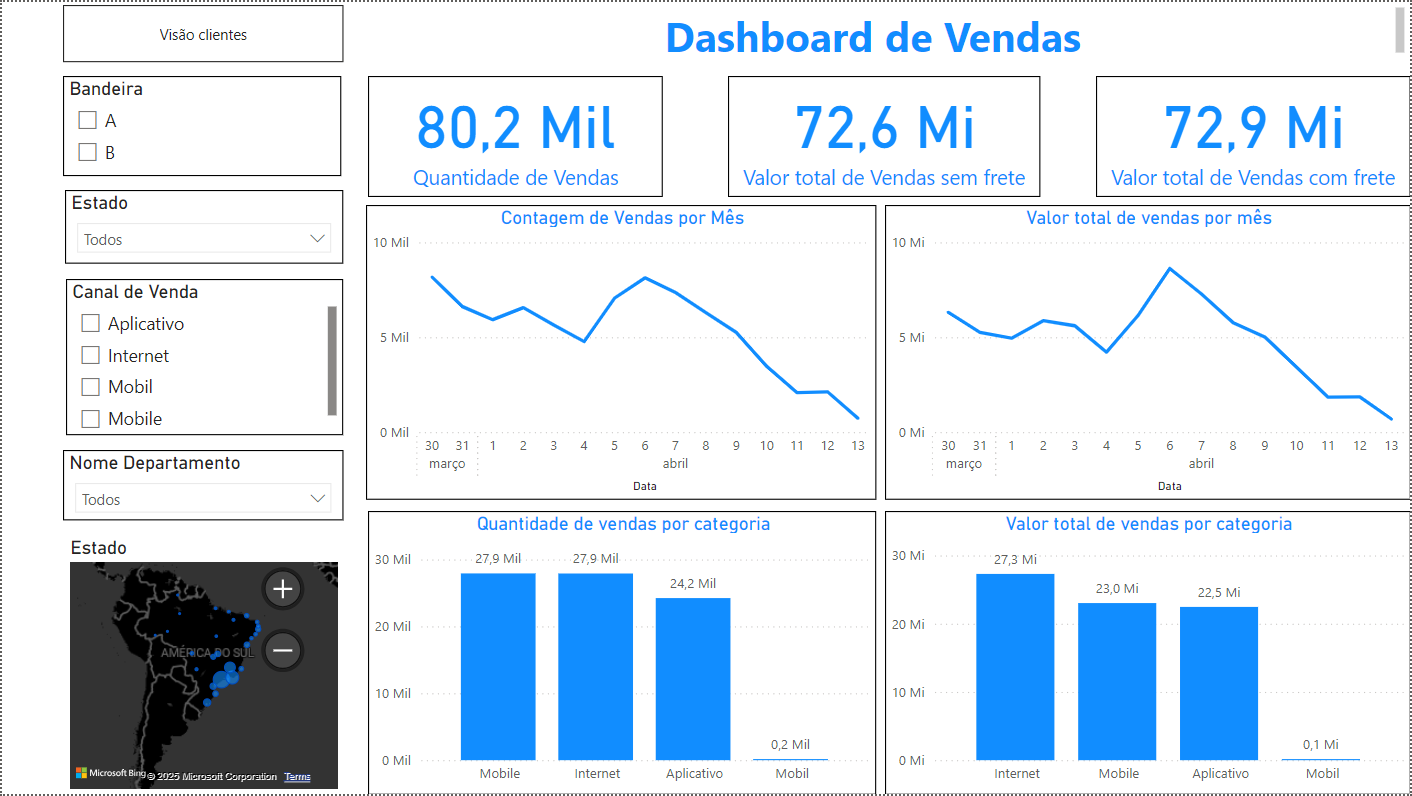

Layout of this report page (visuals, bound fields, positions):
{"tool":"powerbi","page":{"name":"Visão compras","canvas":[1280,720],"ordinal":0},"visuals":[{"type":"textbox","box":[311,0,969.4,55.3],"z":0},{"type":"card","fields":{"Values":["CountNonNull(base compra.cliente_Log)"]},"box":[332.8,67.1,268.4,109.7],"z":1000},{"type":"card","fields":{"Values":["Sum(base compra.Preço)"]},"box":[660.2,67.1,283.8,109.7],"z":2000},{"type":"card","fields":{"Values":["Sum(base compra.Preço_com_frete)"]},"box":[994.8,67.1,285.6,109.7],"z":3000},{"type":"lineChart","title":"Contagem de Vendas por Mês","fields":{"Category":["base compra.Data.Variation.Hierarquia de datas.Mês","base compra.Data.Variation.Hierarquia de datas.Dia"],"Y":["CountNonNull(base compra.cliente_Log)"]},"box":[331,185,464.3,267.5],"z":4000},{"type":"lineChart","title":"Valor total de vendas por mês","fields":{"Category":["base compra.Data.Variation.Hierarquia de datas.Mês","base compra.Data.Variation.Hierarquia de datas.Dia"],"Y":["Sum(base compra.Preço_com_frete)"]},"box":[802.5,185,477.9,267.5],"z":5000},{"type":"columnChart","title":"Quantidade de vendas por categoria","fields":{"Category":["base compra.idcanalvenda"],"Y":["CountNonNull(base compra.cliente_Log)"]},"box":[332.8,462.5,462.5,257.5],"z":6000},{"type":"columnChart","title":"Valor total de vendas por categoria","fields":{"Y":["Sum(base compra.Preço_com_frete)"],"Category":["base compra.idcanalvenda"]},"box":[802.5,462.5,477.9,257.5],"z":7000},{"type":"slicer","title":"Bandeira","fields":{"Values":["base compra.bandeira"]},"box":[55.3,67.1,253,90.7],"z":8000},{"type":"slicer","title":"Estado","fields":{"Values":["base compra.estado"]},"box":[57.5,171.3,253.1,67.1],"z":9000},{"type":"slicer","title":"Canal de Venda","fields":{"Values":["base compra.idcanalvenda"]},"box":[58.5,252,252.2,141.9],"z":10000},{"type":"slicer","title":"Nome Departamento","fields":{"Values":["base compra.Nome_Departamento"]},"box":[55.6,407.4,255,64.2],"z":11000},{"type":"map","title":"Estado","fields":{"Category":["Base cliente.Estado"],"Size":["CountNonNull(Base cliente.cliente_Log)"]},"box":[57.5,485.1,253.1,234.9],"z":12000},{"type":"pageNavigator","box":[55.4,2.8,255.6,52.6],"z":12001}]}

Visuals, with their boxes in screenshot pixels (x1, y1, x2, y2), scaled from the page's 1280x720 canvas onto the 1412x796 screenshot:
textbox: box=[343, 0, 1411, 61]
card - CountNonNull(base compra.cliente_Log): box=[367, 74, 663, 195]
card - Sum(base compra.Preço): box=[728, 74, 1041, 195]
card - Sum(base compra.Preço_com_frete): box=[1097, 74, 1411, 195]
"Contagem de Vendas por Mês" lineChart: box=[365, 205, 877, 500]
"Valor total de vendas por mês" lineChart: box=[885, 205, 1411, 500]
"Quantidade de vendas por categoria" columnChart: box=[367, 511, 877, 795]
"Valor total de vendas por categoria" columnChart: box=[885, 511, 1411, 795]
"Bandeira" slicer: box=[61, 74, 340, 174]
"Estado" slicer: box=[63, 189, 343, 264]
"Canal de Venda" slicer: box=[65, 279, 343, 435]
"Nome Departamento" slicer: box=[61, 450, 343, 521]
"Estado" map: box=[63, 536, 343, 795]
pageNavigator: box=[61, 3, 343, 61]
